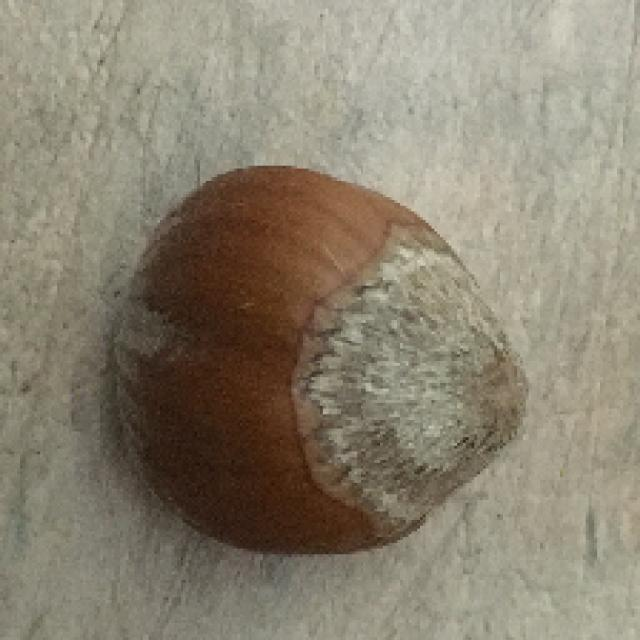QualityHazelnut: (107, 161, 535, 557)
